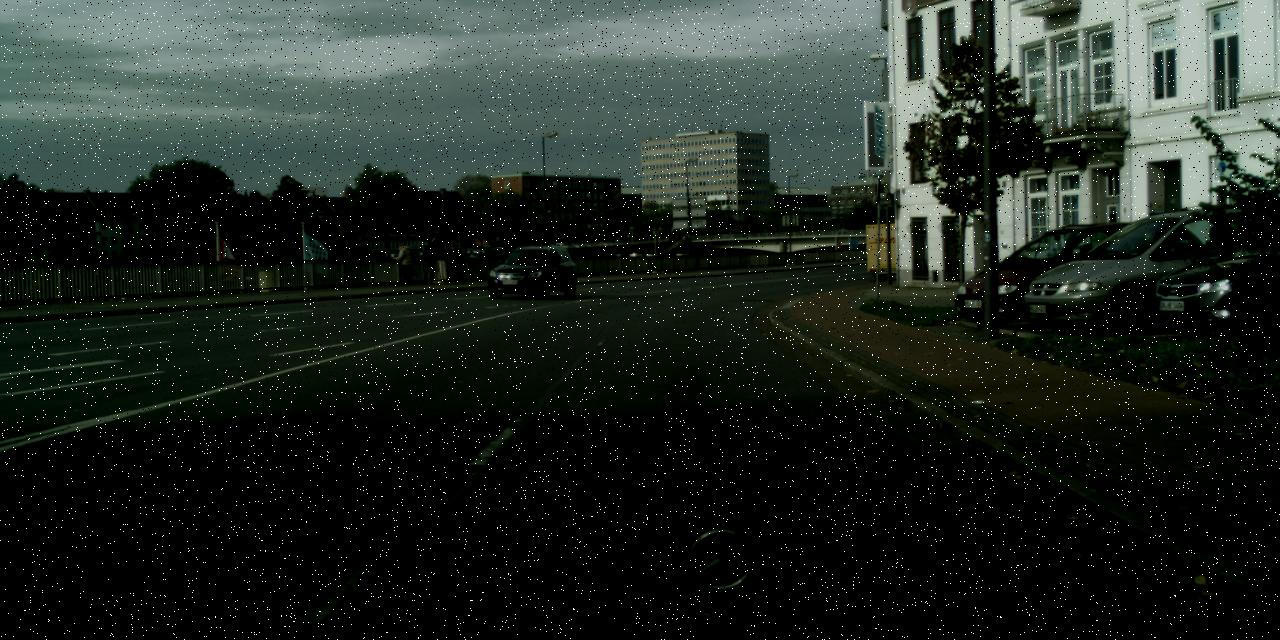ped: (420, 240, 438, 282), (397, 242, 412, 284), (448, 244, 464, 283)
